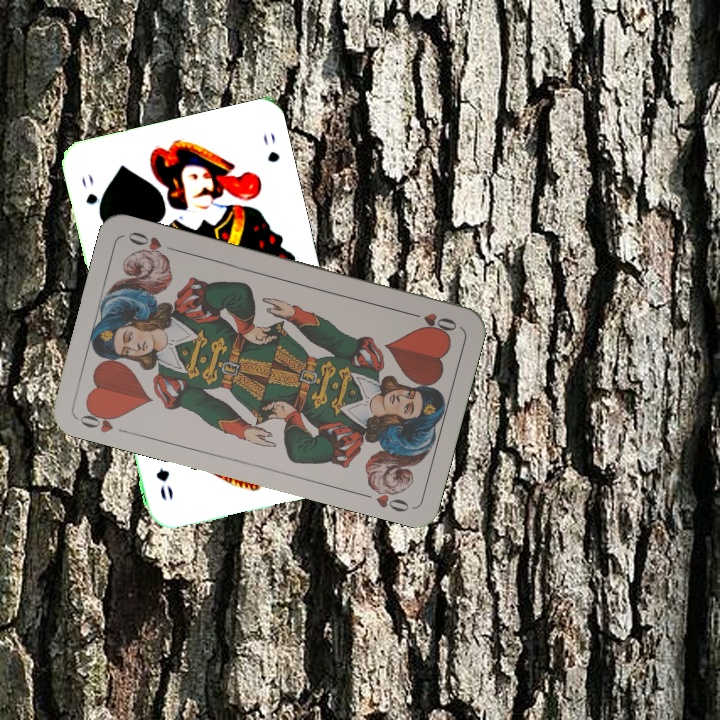GO: (77, 169, 105, 222)
HO: (403, 307, 460, 336), (75, 403, 124, 436)
